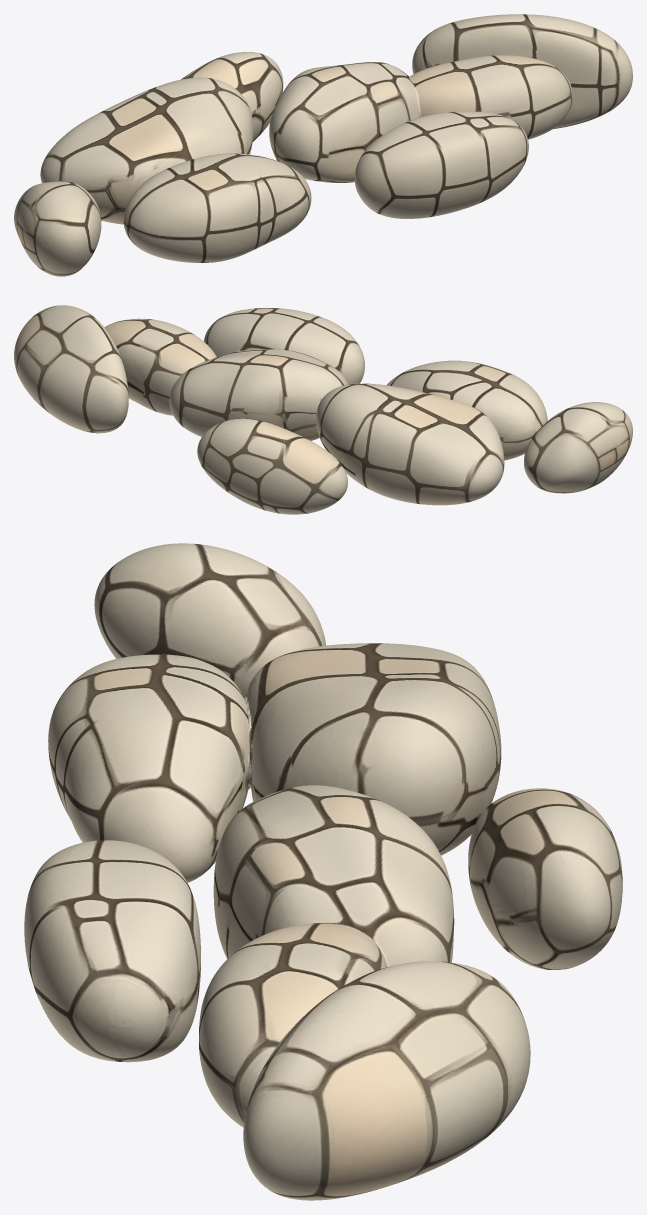
The model's file is pebble_cluster.glb.
3 views of the same model, one above another, from view 1: azimuth 30°, elevation 25°; view 2: azimuth 150°, elevation 25°; view 3: azimuth 270°, elevation 25° (orthographic). The views are drawn at different scales.
Parts seen in each view (by area): view 1: mesh_node; view 2: mesh_node; view 3: mesh_node.
Part boxes in pixels (x1=…): mesh_node: x1=14, y1=14, x2=632, y2=276; mesh_node: x1=14, y1=305, x2=632, y2=514; mesh_node: x1=24, y1=543, x2=622, y2=1200.
Size of the model in its own units: 1.9 by 0.3379 by 0.8689.
Materials: 1 (1 with a texture image).
